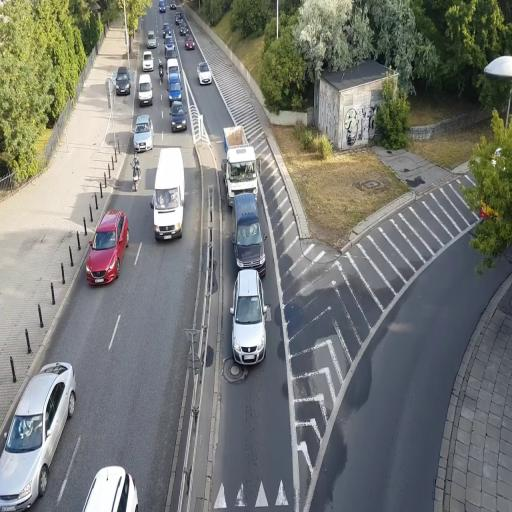vehicle: (0, 360, 78, 508), (225, 130, 266, 275), (231, 269, 268, 366), (85, 210, 129, 288), (152, 147, 185, 243), (233, 190, 266, 274), (224, 126, 258, 204), (82, 466, 139, 512), (133, 116, 153, 152), (170, 102, 187, 132), (138, 74, 152, 106), (168, 70, 182, 101), (114, 68, 130, 95), (197, 62, 213, 84)
